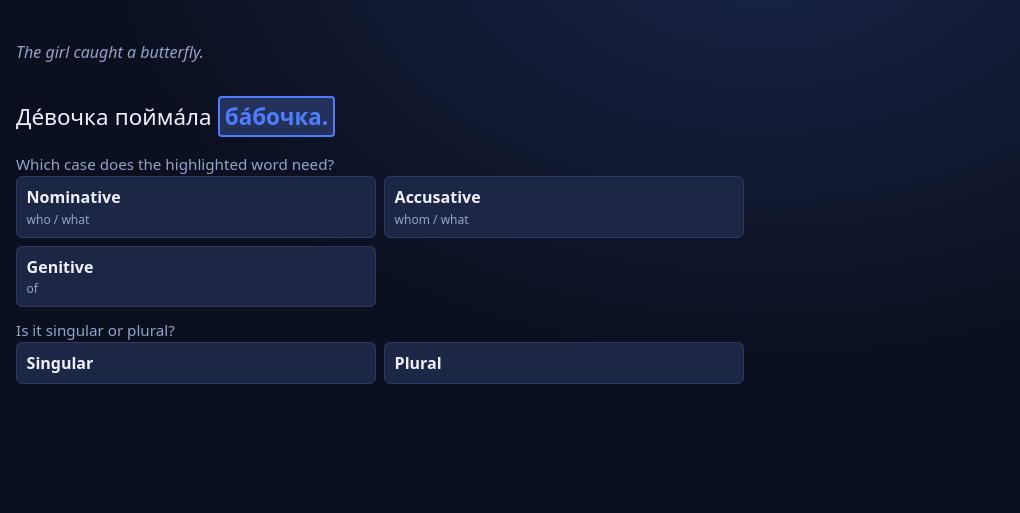
PhraseFixExercise › makes clear when the spelling was right but the case was wrong
Click the button with class "case-btn" showing "Genitive of".
click(60, 267)  # box [16,246,376,307]
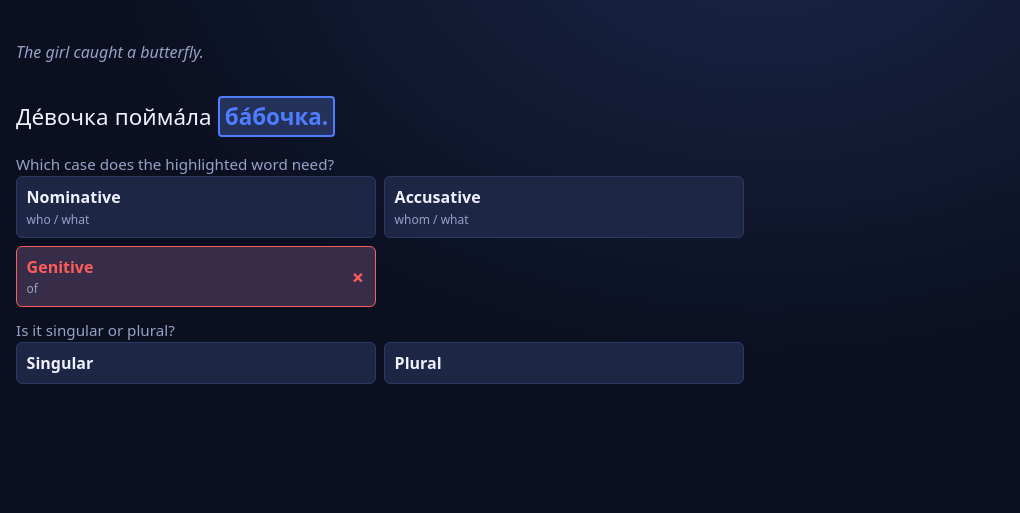
Click the button with class "case-btn" showing "Accusative whom / what".
click(438, 197)  # box [384,176,744,238]
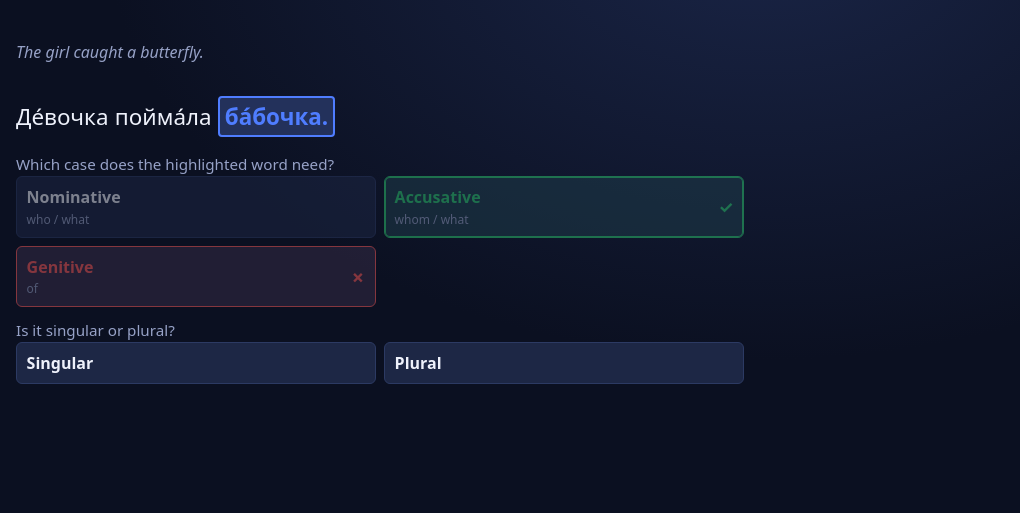
Click the button with class "case-btn" showing "Singular".
click(60, 363)  # box [16,342,376,384]
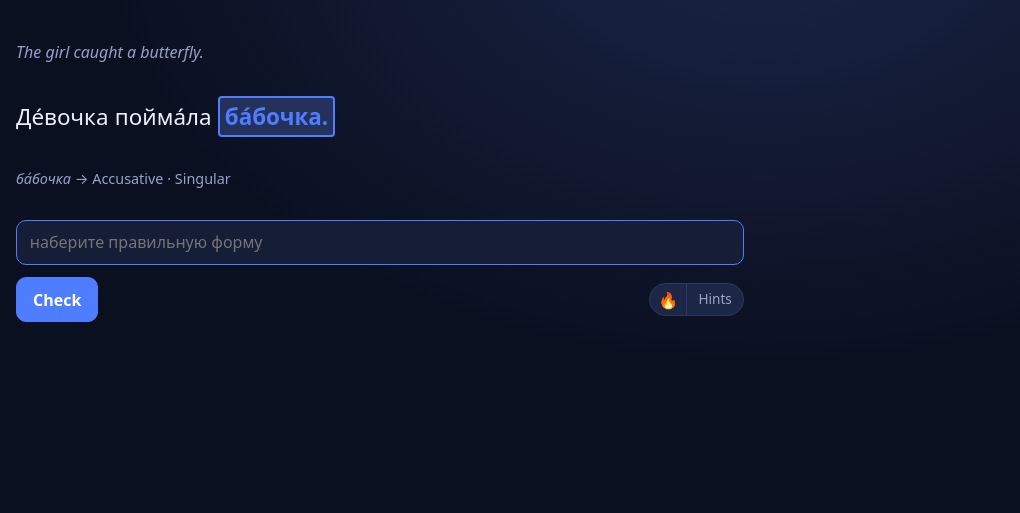
Type "бабочку" into the field with placeholder "наберите правильную форму".
click(380, 242); type("бабочку")  # box [16,220,744,265]
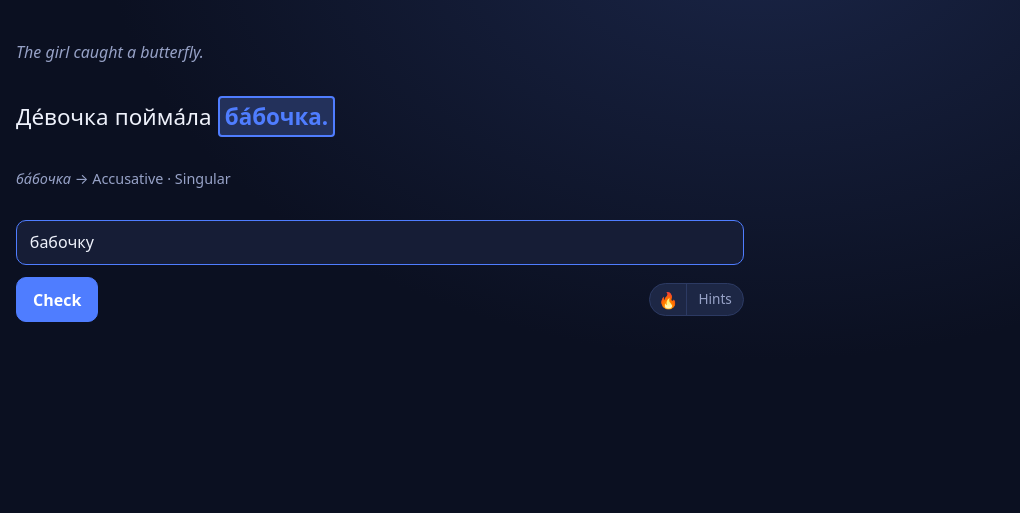
Submit the form, box [16,220,744,322]
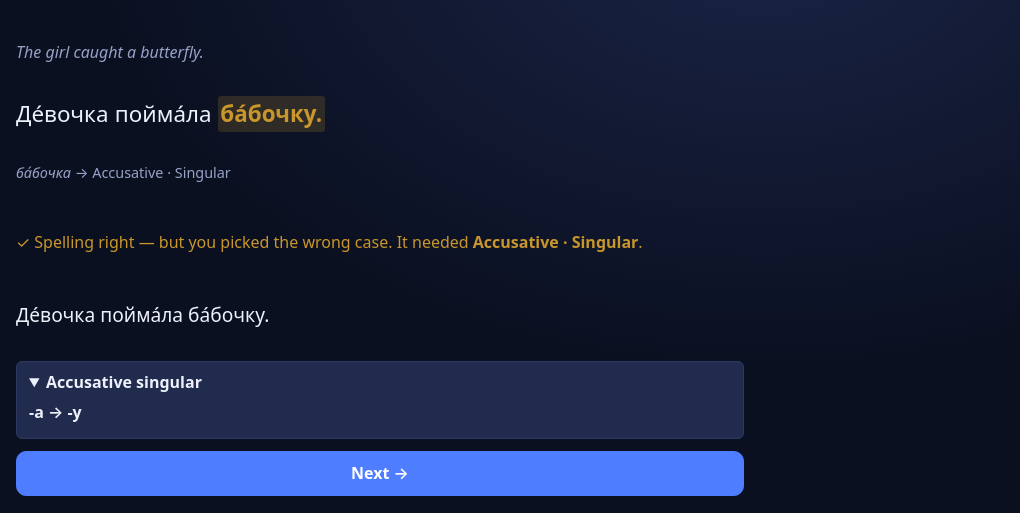
Expected: the element with class "warn" is shown, [16,230,744,254]
Expected: the element with class "warn" shows "Spelling right", [16,231,473,253]
Expected: the element with class "warn" shows "wrong case", [16,231,473,253]
